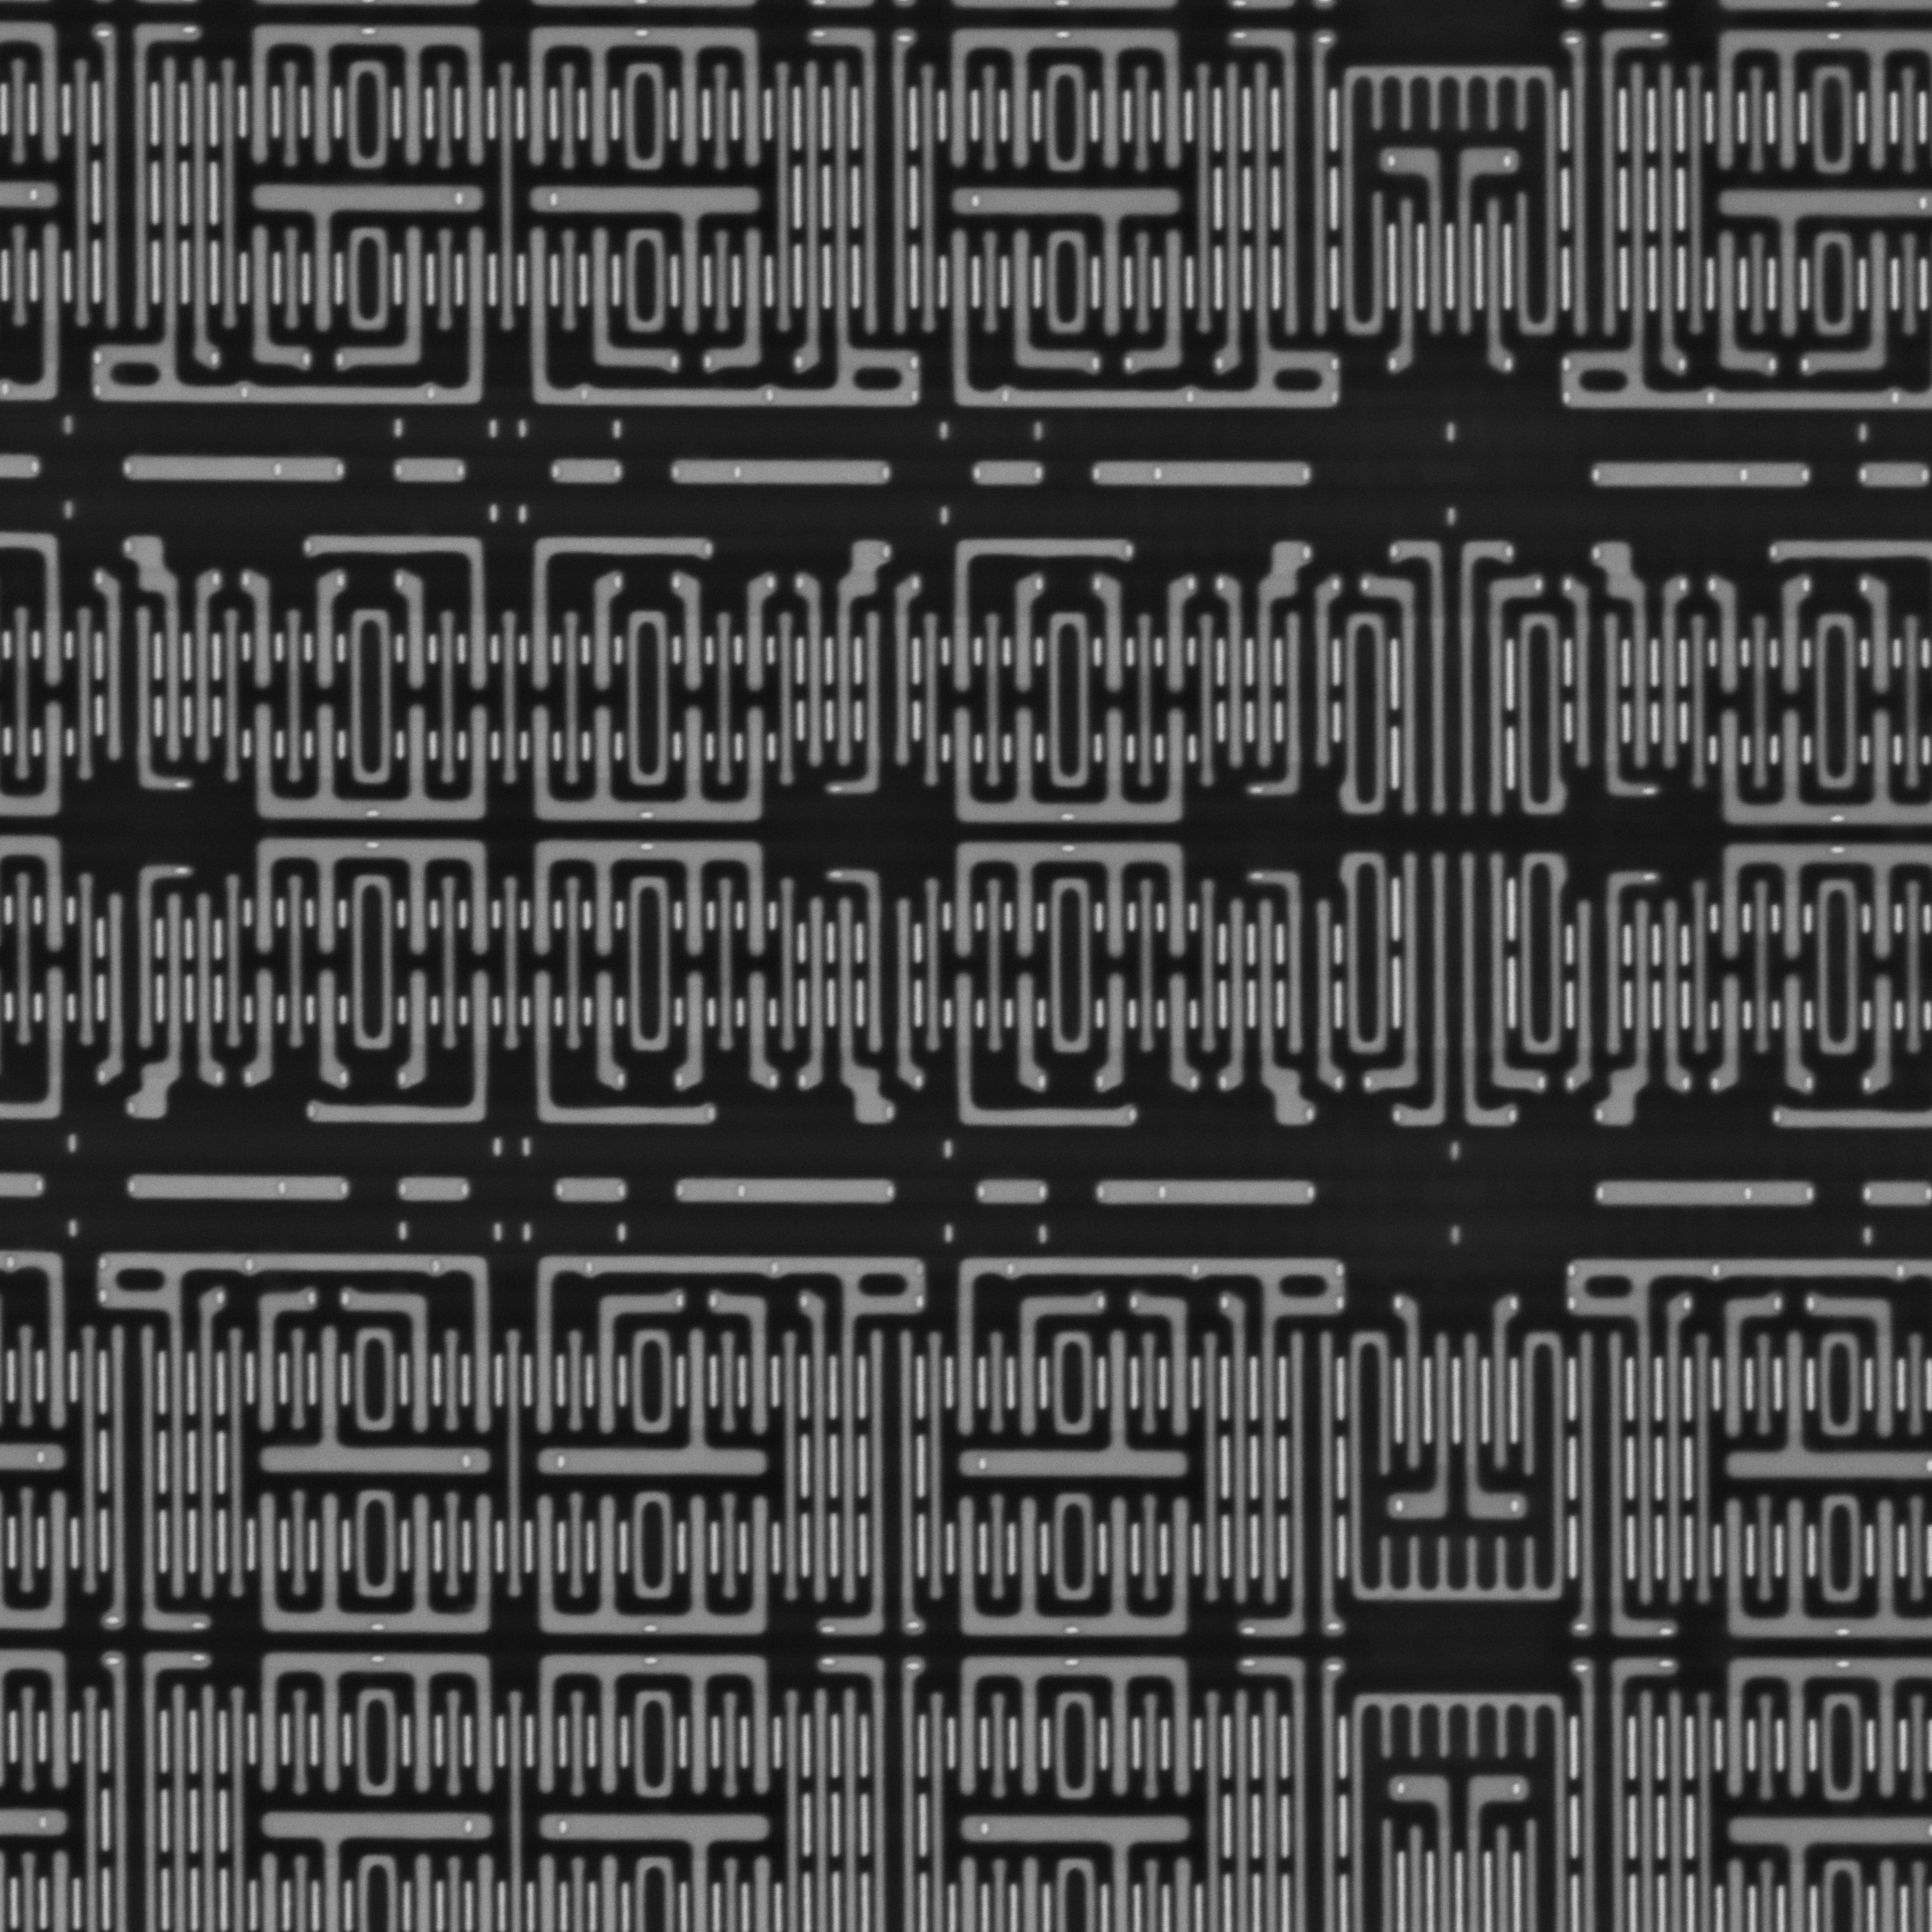multiGate: (1362, 849, 1546, 1138), (945, 1642, 1207, 1813), (520, 1640, 784, 1803), (932, 16, 1194, 179), (515, 21, 777, 182), (524, 1481, 786, 1642), (246, 1645, 508, 1803), (237, 25, 499, 179), (248, 1481, 510, 1635), (945, 1490, 1203, 1638), (241, 835, 501, 977), (520, 837, 780, 973), (941, 830, 1201, 962)
publicGate: (1361, 527, 1546, 819)
resistor: (667, 456, 893, 488), (676, 1175, 899, 1207), (117, 455, 350, 485), (1092, 458, 1325, 488), (124, 1175, 354, 1205), (1093, 1177, 1320, 1207), (1594, 1182, 1817, 1207), (1589, 465, 1821, 488), (1865, 1177, 1932, 1210), (977, 1178, 1053, 1207), (1856, 458, 1932, 485), (552, 1177, 628, 1203), (395, 458, 476, 483), (545, 458, 626, 483), (973, 458, 1046, 485), (395, 1178, 471, 1201)
singleGate: (119, 534, 196, 773), (122, 879, 196, 1125), (584, 1283, 692, 1449), (1589, 543, 1661, 784), (338, 1286, 444, 1447), (1247, 892, 1320, 1127), (1594, 899, 1663, 1134), (1803, 226, 1905, 380), (1803, 1292, 1909, 1438), (1005, 1290, 1109, 1438), (182, 1286, 230, 1599), (793, 1290, 840, 1603), (1647, 62, 1693, 380), (1210, 58, 1254, 379), (1654, 1284, 1695, 1608), (793, 53, 833, 373), (1713, 1290, 1789, 1456), (244, 1281, 322, 1437), (1221, 1292, 1260, 1603), (1122, 1290, 1203, 1438), (708, 1288, 784, 1445), (1704, 225, 1780, 377), (179, 559, 228, 778), (793, 571, 840, 770), (182, 886, 226, 1097), (1215, 888, 1258, 1097), (1652, 893, 1695, 1097), (1479, 1290, 1522, 1483), (1474, 195, 1518, 373), (1389, 193, 1431, 373), (1391, 1297, 1433, 1477), (1217, 573, 1256, 770), (798, 886, 837, 1083), (998, 571, 1051, 697), (1000, 968, 1051, 1097), (580, 561, 626, 704), (1769, 970, 1821, 1097), (391, 966, 442, 1092), (671, 570, 720, 697), (1090, 573, 1139, 701), (1709, 968, 1753, 1109), (393, 566, 441, 697), (1766, 573, 1813, 704), (235, 968, 287, 1088), (584, 968, 632, 1095), (734, 970, 782, 1097), (732, 566, 778, 695), (672, 971, 718, 1100), (303, 559, 347, 692), (241, 568, 287, 694), (1856, 577, 1902, 701), (304, 973, 354, 1088), (1859, 970, 1905, 1093), (1707, 573, 1752, 699), (1093, 962, 1136, 1088), (1155, 573, 1198, 694)
